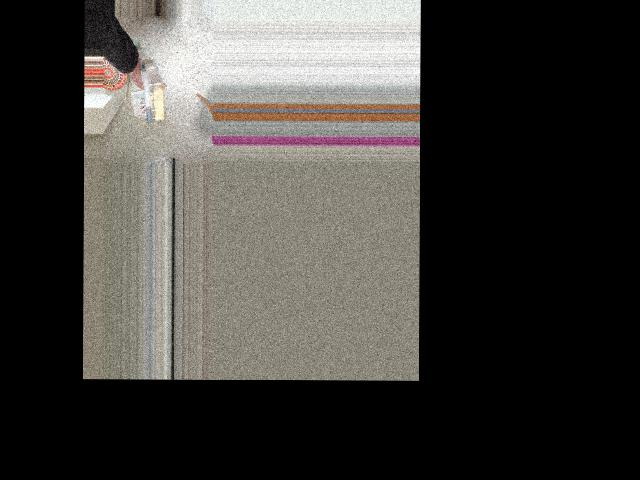cheese: (106, 71, 182, 123)
